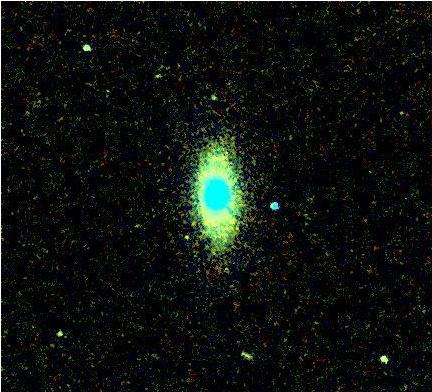star: (173, 222, 203, 252)
